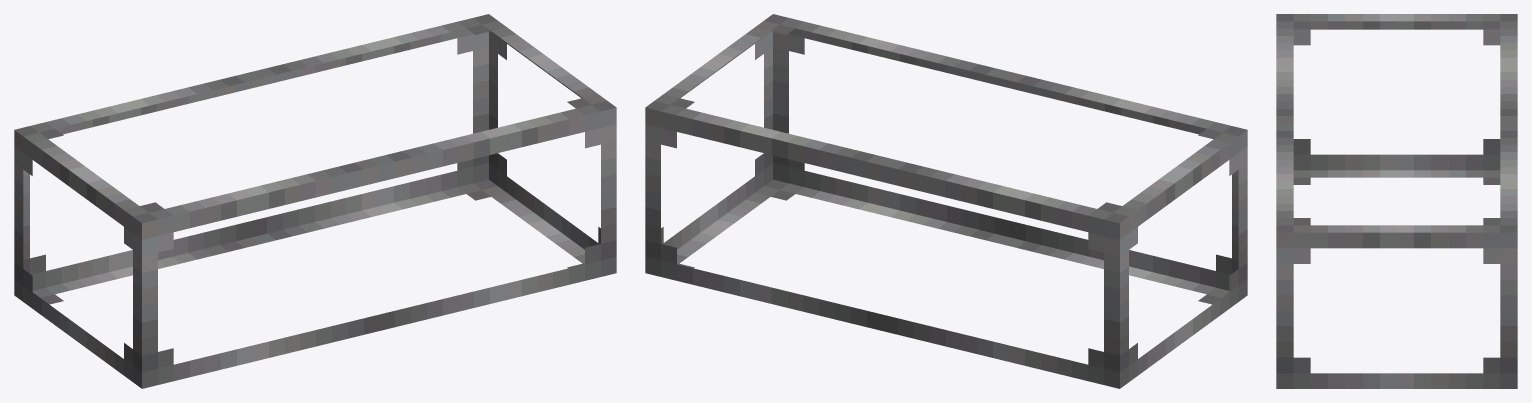
Rendered from reinforced_chest_large_frame.obj.
The picture shows the model from 3 angles, left to right: view 1: azimuth 30°, elevation 25°; view 2: azimuth 150°, elevation 25°; view 3: azimuth 270°, elevation 25°; orthographic projection. The views are drawn at different scales.
Parts seen in each view (by area): view 1: reinforced_chest_large_frame; view 2: reinforced_chest_large_frame; view 3: reinforced_chest_large_frame.
Boxes of the visible parts, x1=… form: reinforced_chest_large_frame: x1=14, y1=14, x2=616, y2=388; reinforced_chest_large_frame: x1=645, y1=14, x2=1247, y2=388; reinforced_chest_large_frame: x1=1276, y1=14, x2=1517, y2=388.
Size of the model in its own units: 1.88 by 0.625 by 0.875.
